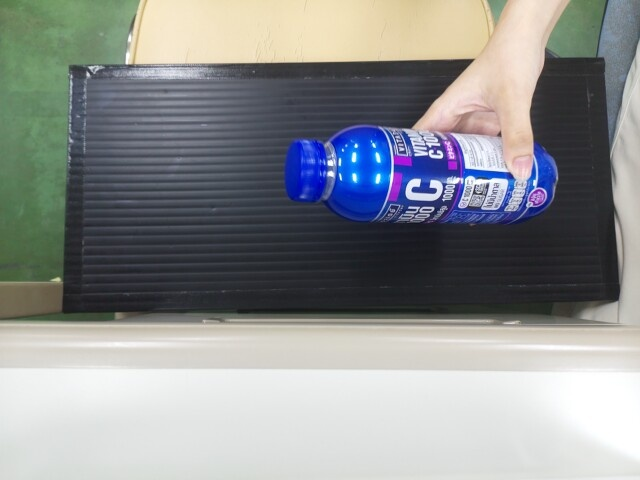plastic_bottle: (283, 126, 510, 223)
